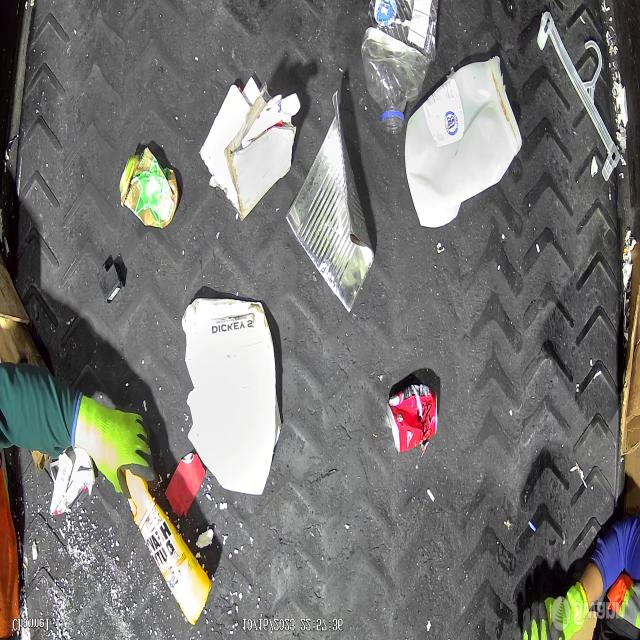can: (285, 86, 373, 315), (118, 154, 180, 228), (387, 384, 438, 455)
milk_jug: (404, 55, 522, 228)
non_white_jug: (126, 468, 210, 632)
plastic_bottle: (362, 0, 438, 134)
